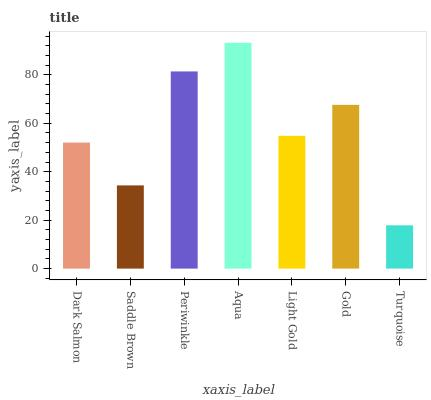axis: (41, 33, 58, 279)
label: (68, 289, 87, 369), (122, 288, 139, 372), (283, 288, 303, 353), (175, 288, 193, 354), (392, 287, 407, 349), (231, 287, 247, 322), (338, 289, 354, 319)
rectangle: (225, 42, 250, 269), (171, 71, 198, 269), (333, 106, 360, 269), (279, 136, 305, 268), (63, 143, 90, 268), (116, 186, 143, 269), (386, 225, 413, 269)
title: (45, 5, 85, 27)
